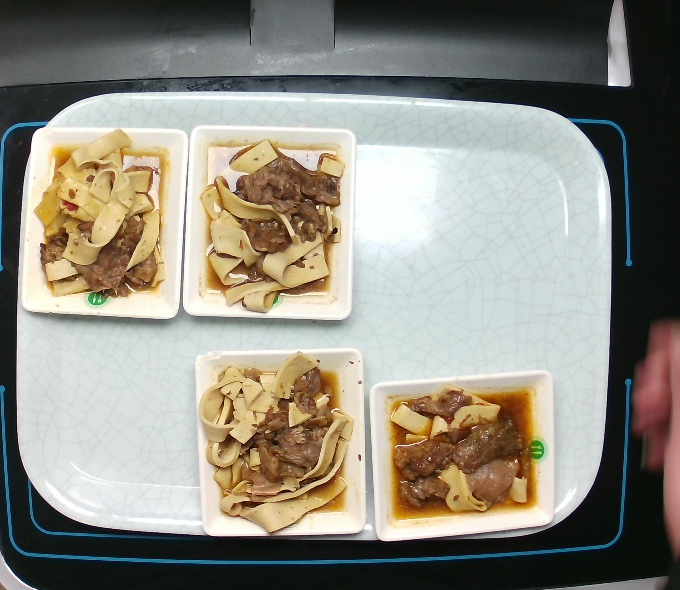wcq-QianZhangNiuNan: (194, 344, 358, 541), (192, 135, 349, 318), (28, 121, 173, 305), (389, 382, 541, 514)
